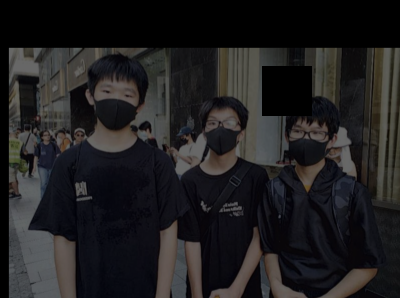mask_weared_incorrect: (325, 145, 340, 162)
with_mask: (90, 82, 138, 130), (286, 122, 326, 166), (202, 114, 237, 155), (178, 133, 187, 145), (137, 128, 146, 138)
without_mask: (72, 130, 82, 143), (39, 130, 49, 141)
